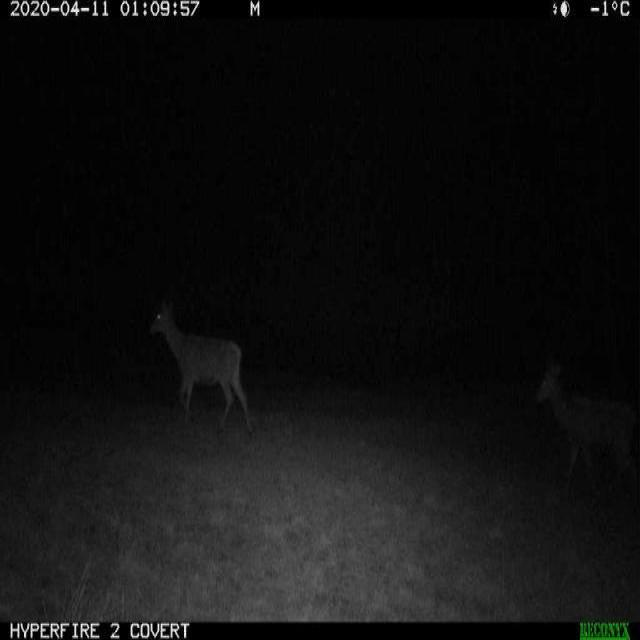deer: (140, 282, 249, 442), (538, 350, 627, 525)
